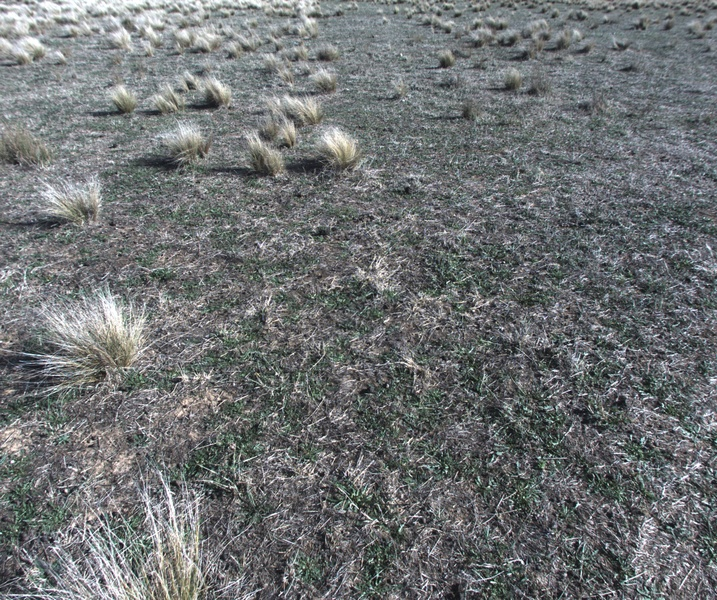st: (70, 480, 198, 600), (28, 291, 147, 378), (41, 178, 102, 231), (161, 121, 208, 167), (316, 124, 359, 164), (245, 138, 284, 179), (281, 98, 321, 132), (201, 76, 233, 112), (188, 26, 219, 59), (104, 85, 139, 112), (172, 68, 201, 96), (307, 38, 339, 63), (492, 28, 524, 52), (25, 35, 51, 64), (149, 89, 177, 115), (269, 113, 291, 146), (171, 25, 194, 56), (139, 24, 165, 50), (549, 29, 575, 55), (304, 72, 333, 95), (256, 48, 281, 74), (504, 66, 524, 97), (477, 14, 509, 33), (4, 42, 28, 67), (272, 64, 296, 89), (436, 47, 456, 74), (283, 38, 306, 61), (103, 31, 125, 54), (527, 20, 549, 41), (393, 76, 409, 104), (683, 20, 707, 38), (138, 40, 157, 61), (237, 34, 254, 56), (51, 50, 68, 70), (220, 45, 235, 62), (470, 32, 485, 46)
